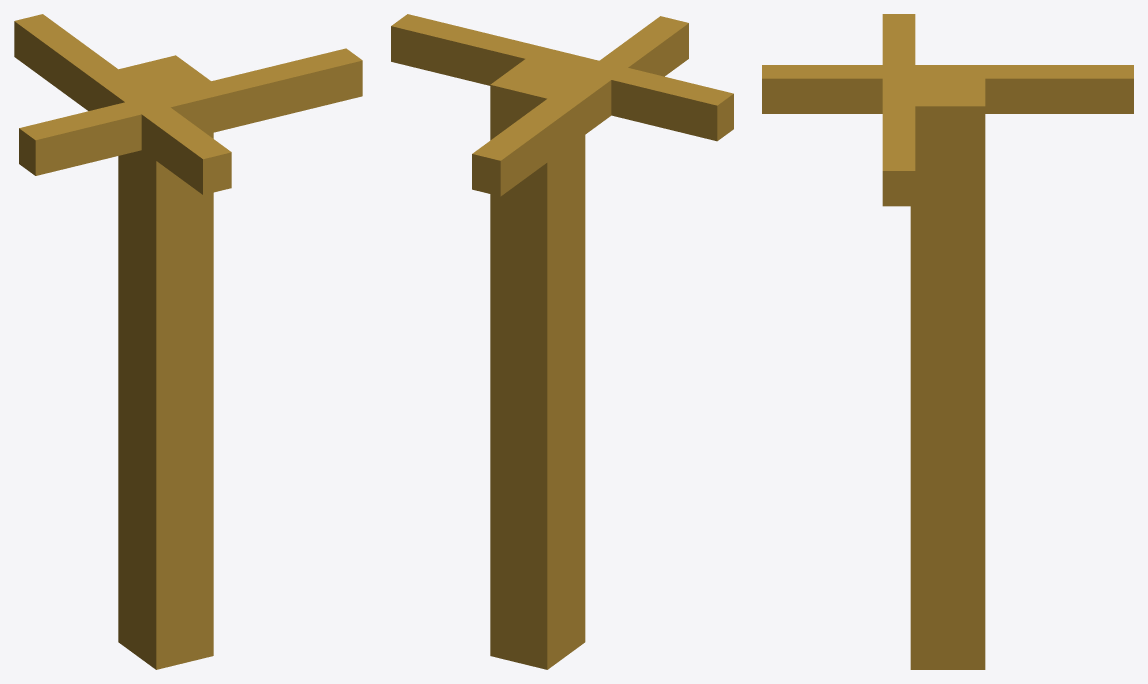
File: top_right.glb
3 renders of one model, left to right at view 1: azimuth 30°, elevation 25°; view 2: azimuth 150°, elevation 25°; view 3: azimuth 270°, elevation 25°, orthographic.
Visible parts, largest first — view 1: Maxis-3d2-mesh-49; view 2: Maxis-3d2-mesh-49; view 3: Maxis-3d2-mesh-49.
Part boxes in pixels (x1,y1,x2,y2): Maxis-3d2-mesh-49: (14, 14, 362, 669); Maxis-3d2-mesh-49: (391, 14, 733, 669); Maxis-3d2-mesh-49: (762, 14, 1133, 669).
Size of the model in its own units: 4.78 by 8 by 4.78.
